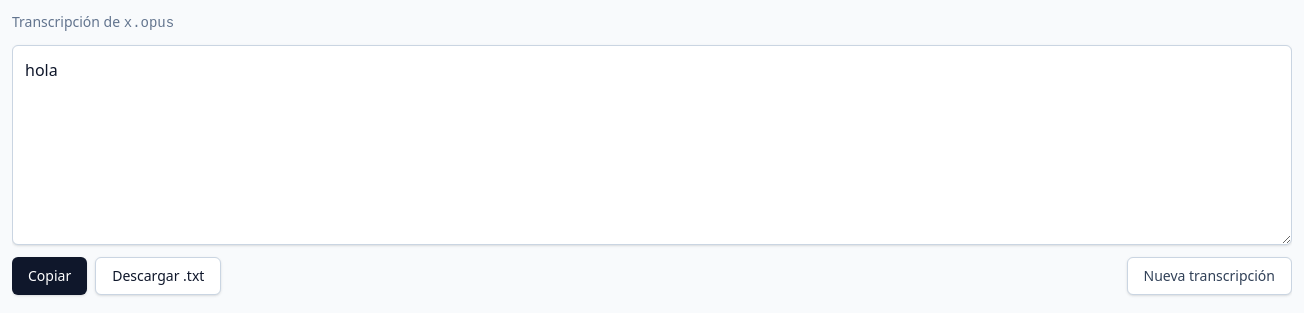
Test case: TranscriptionResult — Copiar › click en Copiar cambia el label a 'Copiado ✓'
Click the button "Copiar": [50, 276] box x1=12 y1=257 x2=87 y2=295
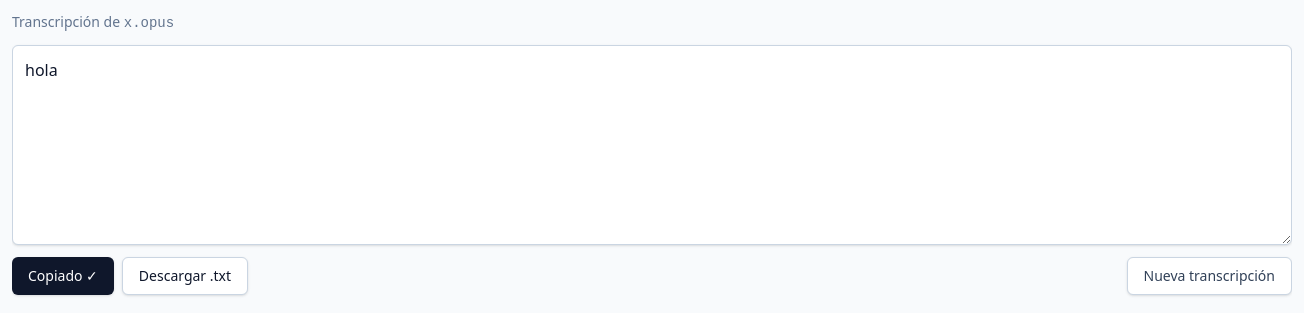
Expected: the button "Copiado ✓" is shown, x1=12 y1=257 x2=114 y2=295
